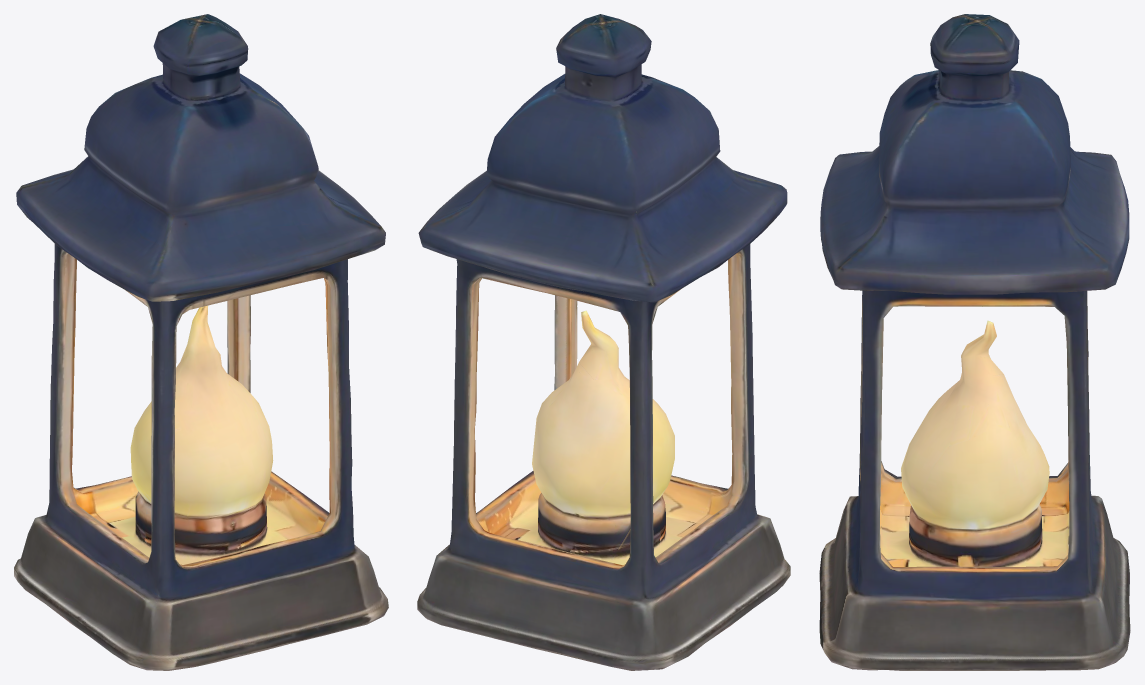
The model's file is lantern-high.glb.
The picture shows the model from 3 angles, left to right: view 1: azimuth 30°, elevation 25°; view 2: azimuth 150°, elevation 25°; view 3: azimuth 270°, elevation 25°; orthographic projection. The views are drawn at different scales.
Visible parts, largest first — view 1: supplied-lantern-model; view 2: supplied-lantern-model; view 3: supplied-lantern-model.
Part boxes in pixels (x1,y1,x2,y2): supplied-lantern-model: [14, 14, 388, 670]; supplied-lantern-model: [417, 14, 790, 670]; supplied-lantern-model: [819, 14, 1130, 670].
Bounding box in the file's own units: 1.19 × 2.48 × 1.19.
1 material, 1 textured.
